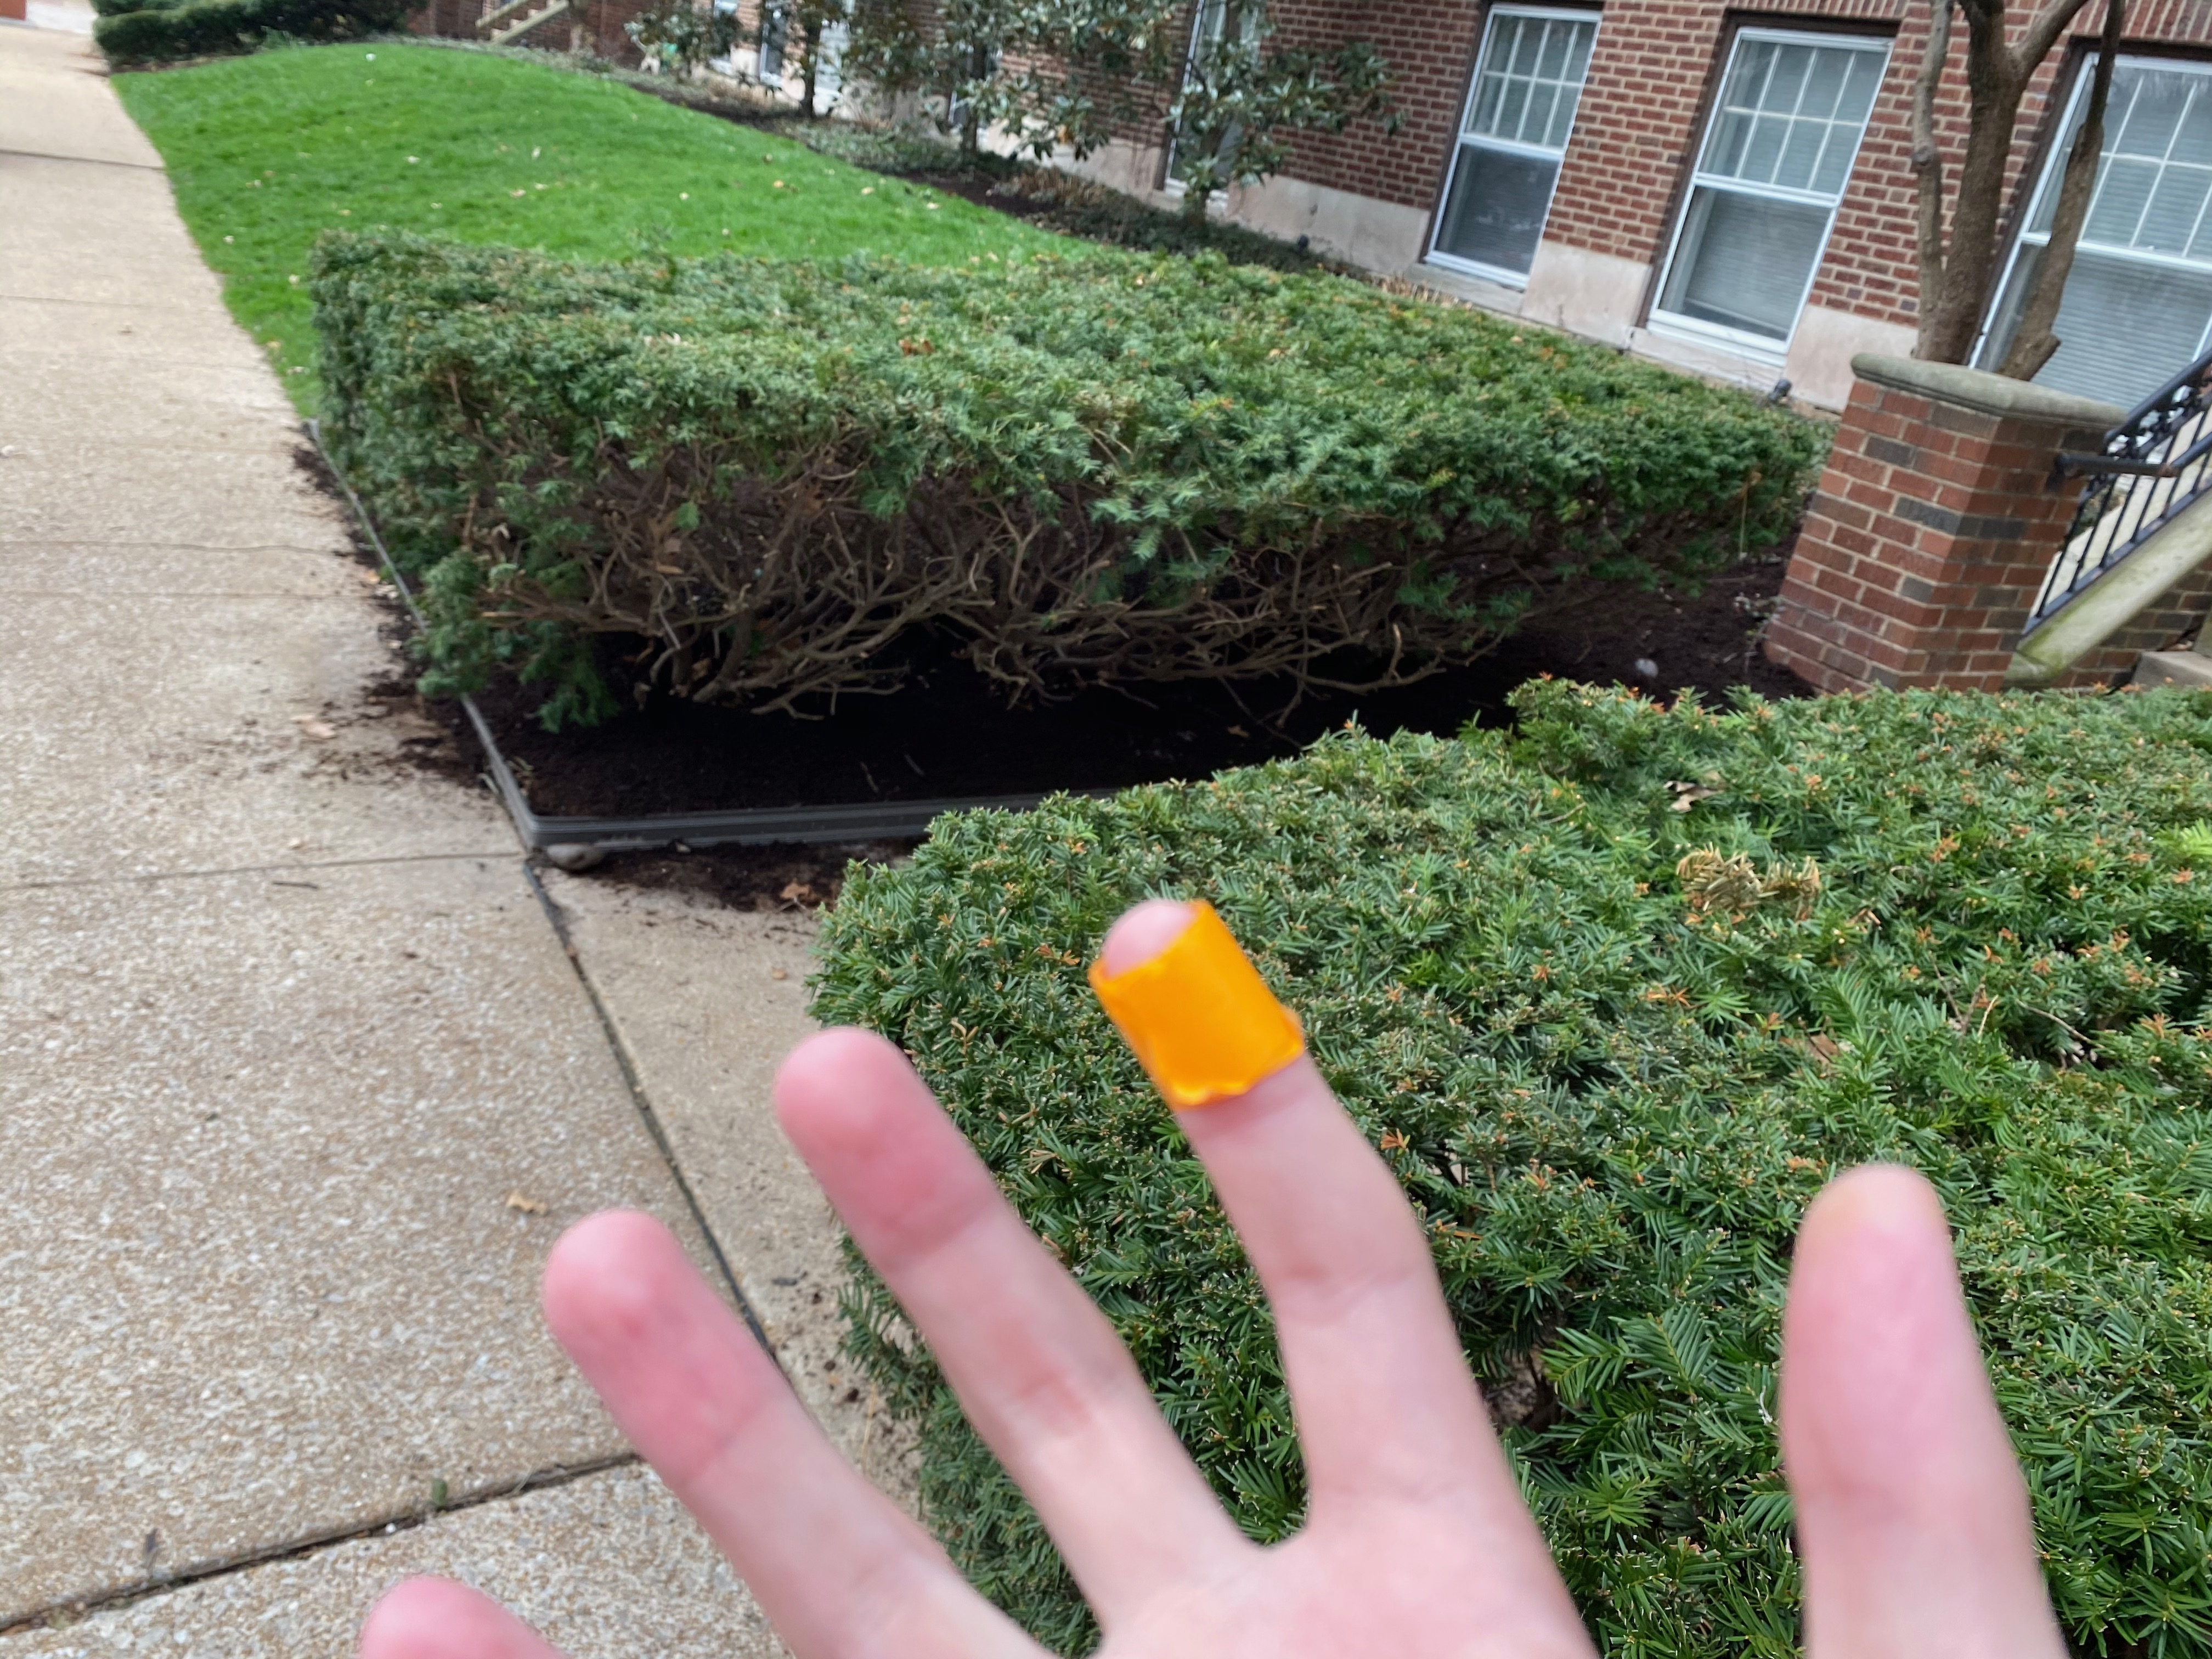fingertip: (1024, 884, 1430, 1161)
